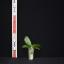leaf: (24, 36, 32, 47), (31, 44, 41, 47), (22, 45, 31, 48), (33, 47, 40, 50), (32, 46, 41, 48), (27, 47, 31, 49)
